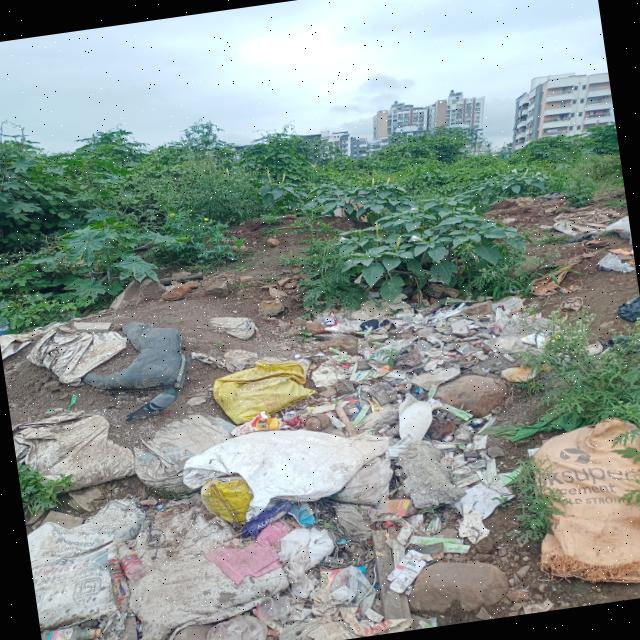garbage: (146, 276, 576, 600), (23, 454, 442, 640)
